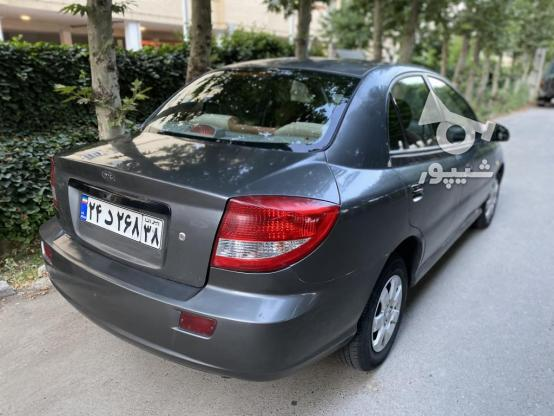car: (80, 194, 161, 249)
